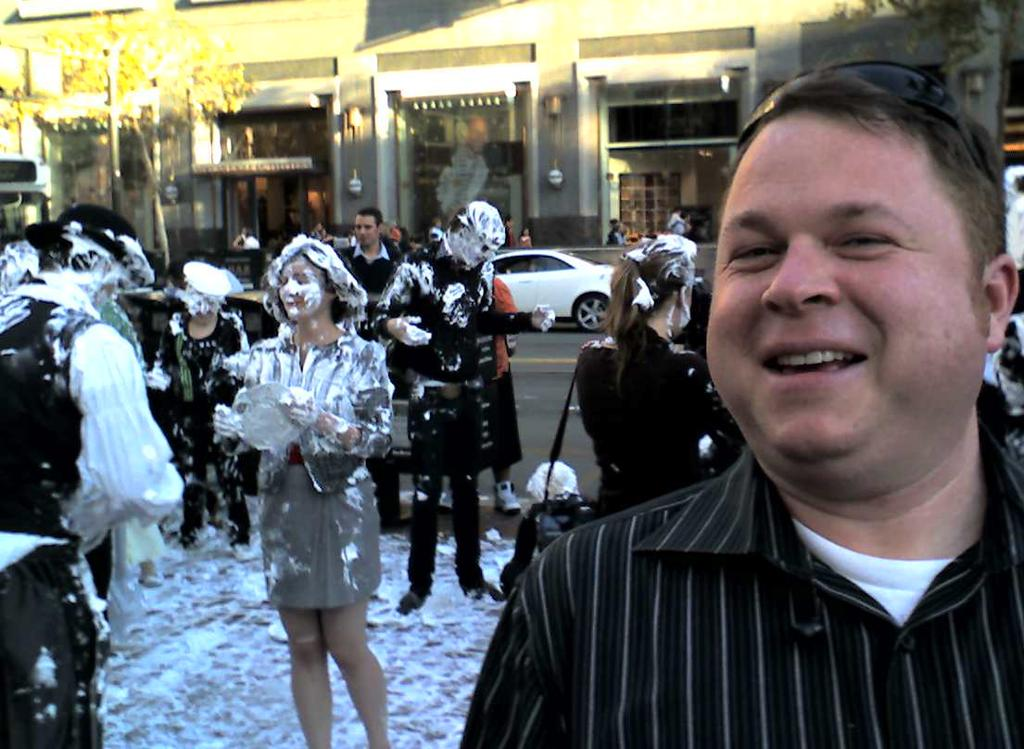face: (707, 120, 984, 455), (80, 260, 133, 310), (280, 258, 323, 319), (463, 235, 495, 267), (189, 293, 216, 321), (355, 216, 377, 244), (312, 225, 325, 240)
